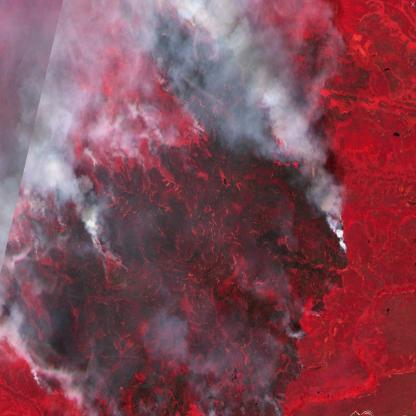fire: (0, 0, 351, 416)
